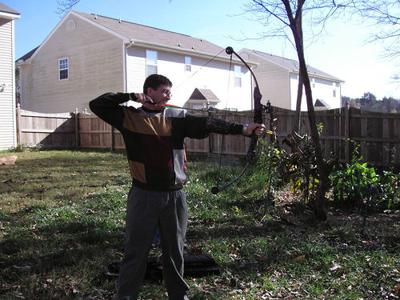person: (85, 72, 266, 300)
